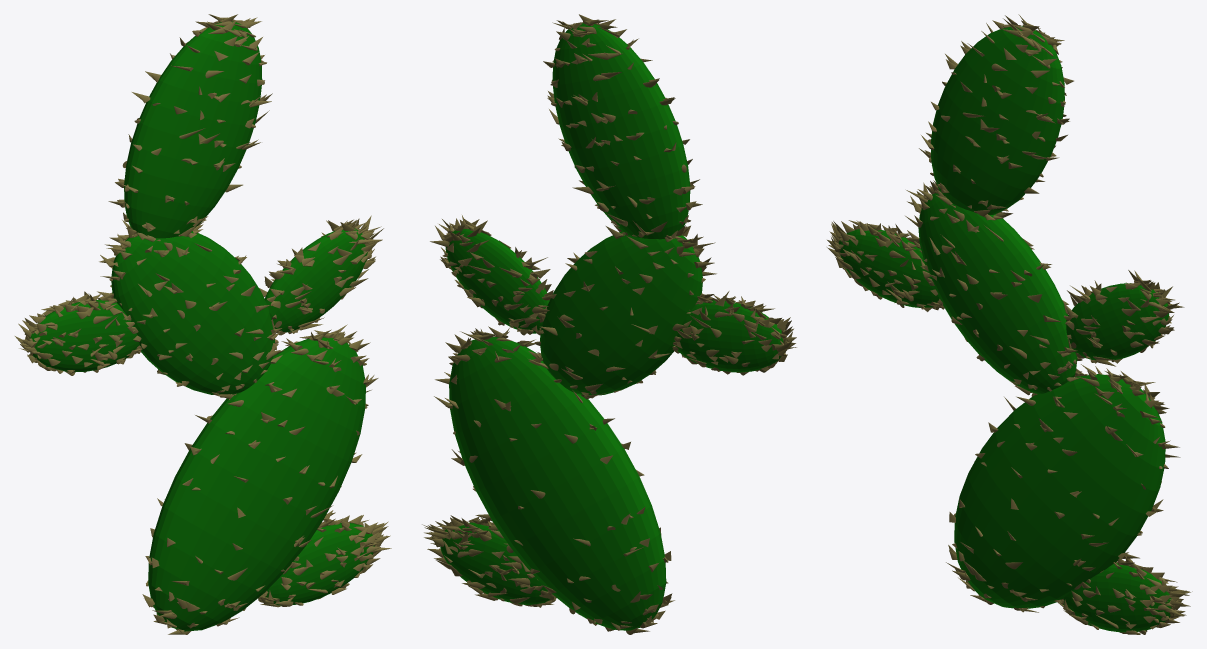
File: nopal de castilla.glb
The picture shows the model from 3 angles, left to right: view 1: azimuth 30°, elevation 25°; view 2: azimuth 150°, elevation 25°; view 3: azimuth 330°, elevation 25°; orthographic projection. The views are drawn at different scales.
Visible parts, largest first — view 1: Sphere.004; view 2: Sphere.004; view 3: Sphere.004.
Boxes of the visible parts, bbox=[...] form: Sphere.004: bbox=[29, 21, 374, 631]; Sphere.004: bbox=[440, 23, 783, 630]; Sphere.004: bbox=[838, 26, 1171, 632].
Size of the model in its own units: 3.54 by 5.53 by 0.544.
